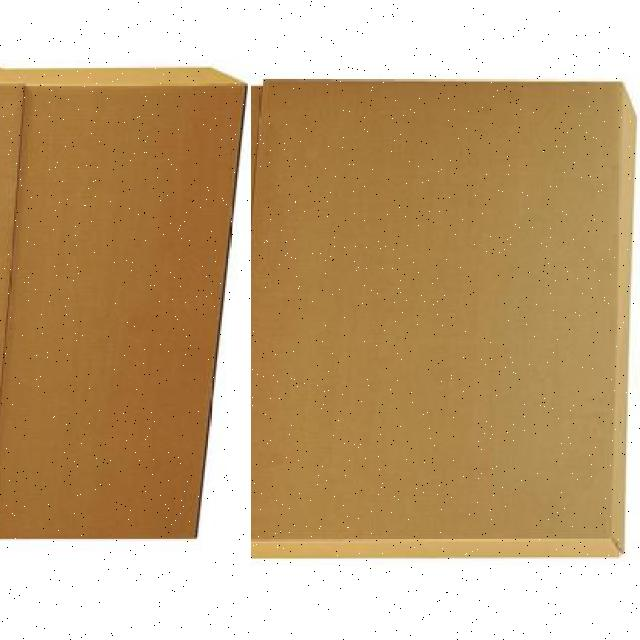normal: (217, 57, 629, 563), (0, 59, 251, 566)
